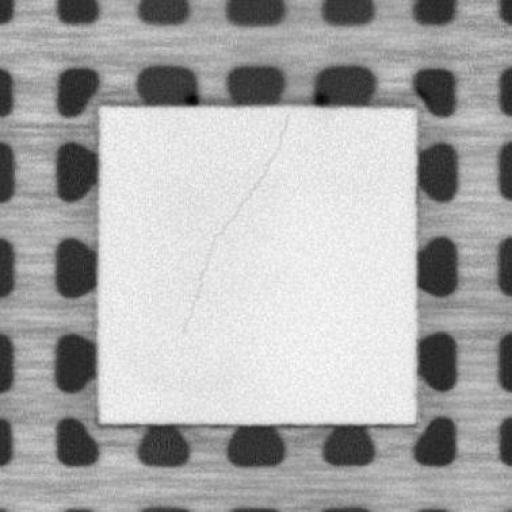DIE_CRACK: (178, 112, 287, 335)
